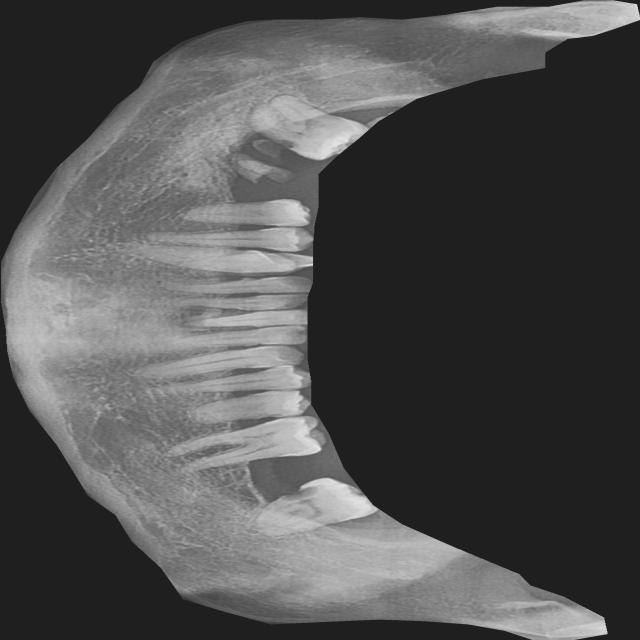mandibula: (0, 0, 640, 640)
